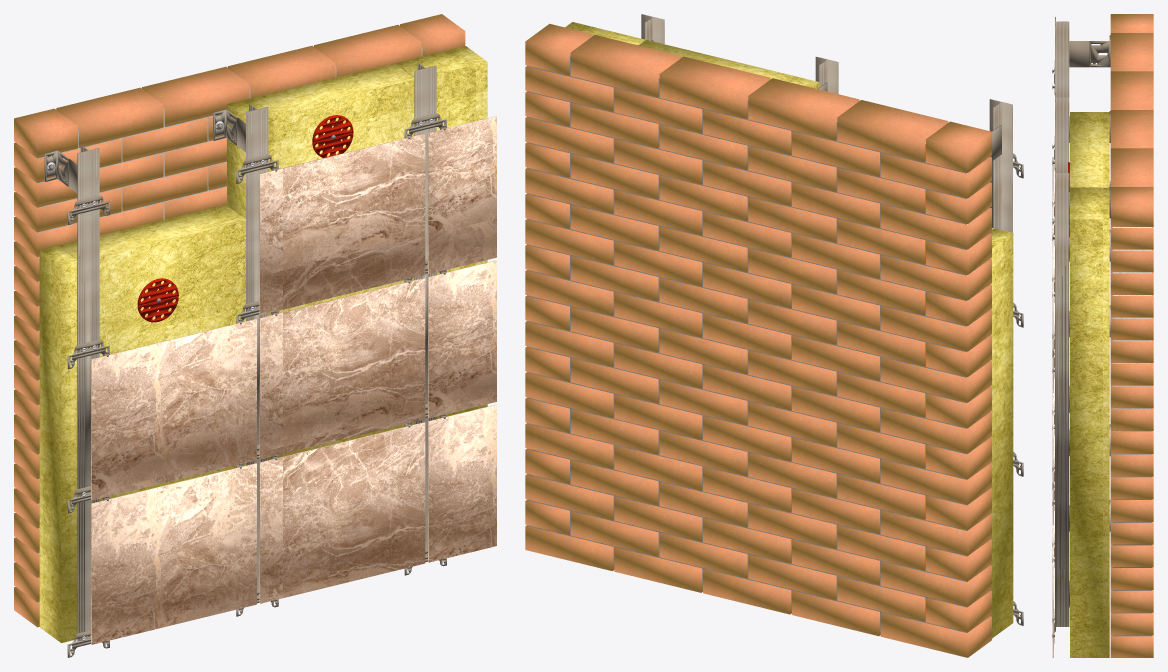
File: vfmodel.glb
3 renders of one model, left to right at view 1: azimuth 30°, elevation 25°; view 2: azimuth 150°, elevation 25°; view 3: azimuth 270°, elevation 25°, orthographic. The views are drawn at different scales.
Visible parts, largest first — view 1: Камень - Панели нов, Изоляция - Стекловолокно верх_316ffc6, Кирпич - Цвет Покрытия, Металл - Сталь, Краска - Киноварь, Штукатурка - Высококачественн_88a1875; view 2: Кирпич - Цвет Покрытия, Штукатурка - Высококачественн_88a1875, Изоляция - Стекловолокно верх_316ffc6, Металл - Сталь; view 3: Кирпич - Цвет Покрытия, Изоляция - Стекловолокно верх_316ffc6, Металл - Сталь, Штукатурка - Шероховатая Белая, Камень - Панели нов, Metal_Corrogated_Shiny_59_1 (из конвертиру_4d0aa1d.
Boxes of the visible parts, left/top/right/bottom form: Камень - Панели нов: left=91, top=116, right=496, bottom=644; Изоляция - Стекловолокно верх_316ffc6: left=39, top=46, right=487, bottom=642; Кирпич - Цвет Покрытия: left=14, top=14, right=465, bottom=627; Металл - Сталь: left=44, top=63, right=446, bottom=657; Краска - Киноварь: left=137, top=115, right=353, bottom=322; Штукатурка - Высококачественн_88a1875: left=38, top=46, right=422, bottom=603; Кирпич - Цвет Покрытия: left=525, top=23, right=991, bottom=657; Штукатурка - Высококачественн_88a1875: left=528, top=57, right=966, bottom=632; Изоляция - Стекловолокно верх_316ffc6: left=565, top=22, right=1013, bottom=638; Металл - Сталь: left=641, top=14, right=1023, bottom=625; Кирпич - Цвет Покрытия: left=1110, top=14, right=1153, bottom=657; Изоляция - Стекловолокно верх_316ffc6: left=1070, top=112, right=1109, bottom=657; Металл - Сталь: left=1052, top=17, right=1110, bottom=643; Штукатурка - Шероховатая Белая: left=1112, top=227, right=1151, bottom=636; Камень - Панели нов: left=1052, top=157, right=1053, bottom=657; Metal_Corrogated_Shiny_59_1 (из конвертиру_4d0aa1d: left=1109, top=229, right=1110, bottom=531.
Size of the model in its own units: 1.27 by 1.42 by 0.2833.
13 materials, 9 textured.
